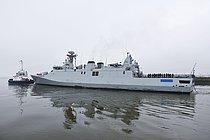MIL_Ship: (29, 49, 198, 95)
